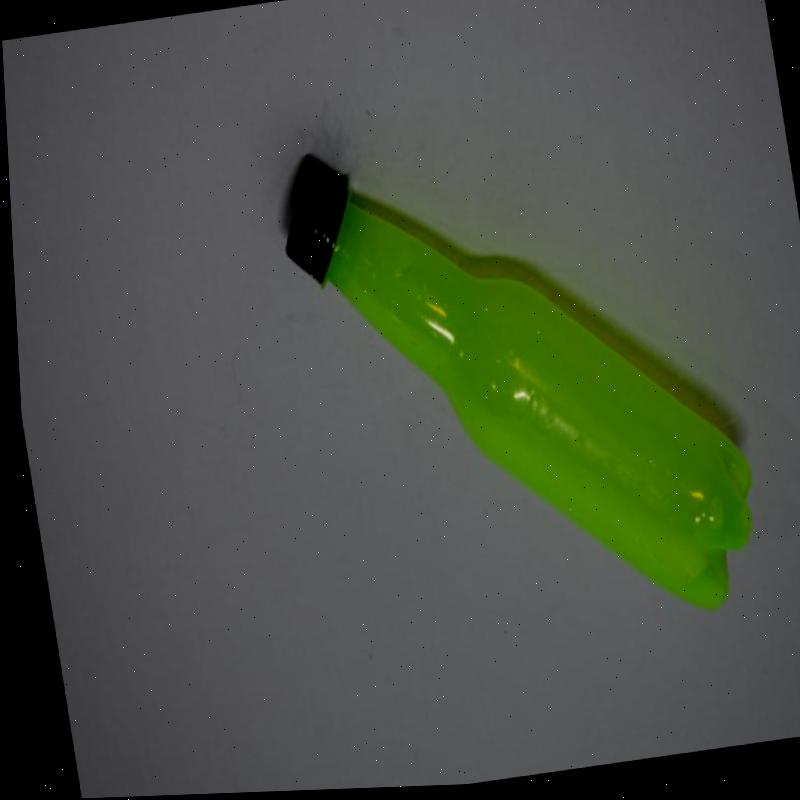botella: (266, 101, 764, 661)
